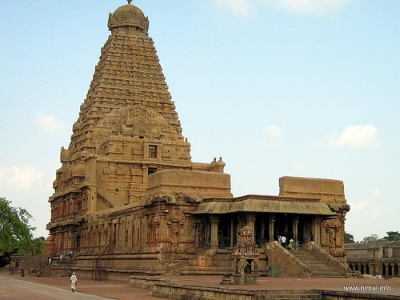gopuram: (77, 29, 199, 170)
mandapa: (197, 190, 332, 255)
